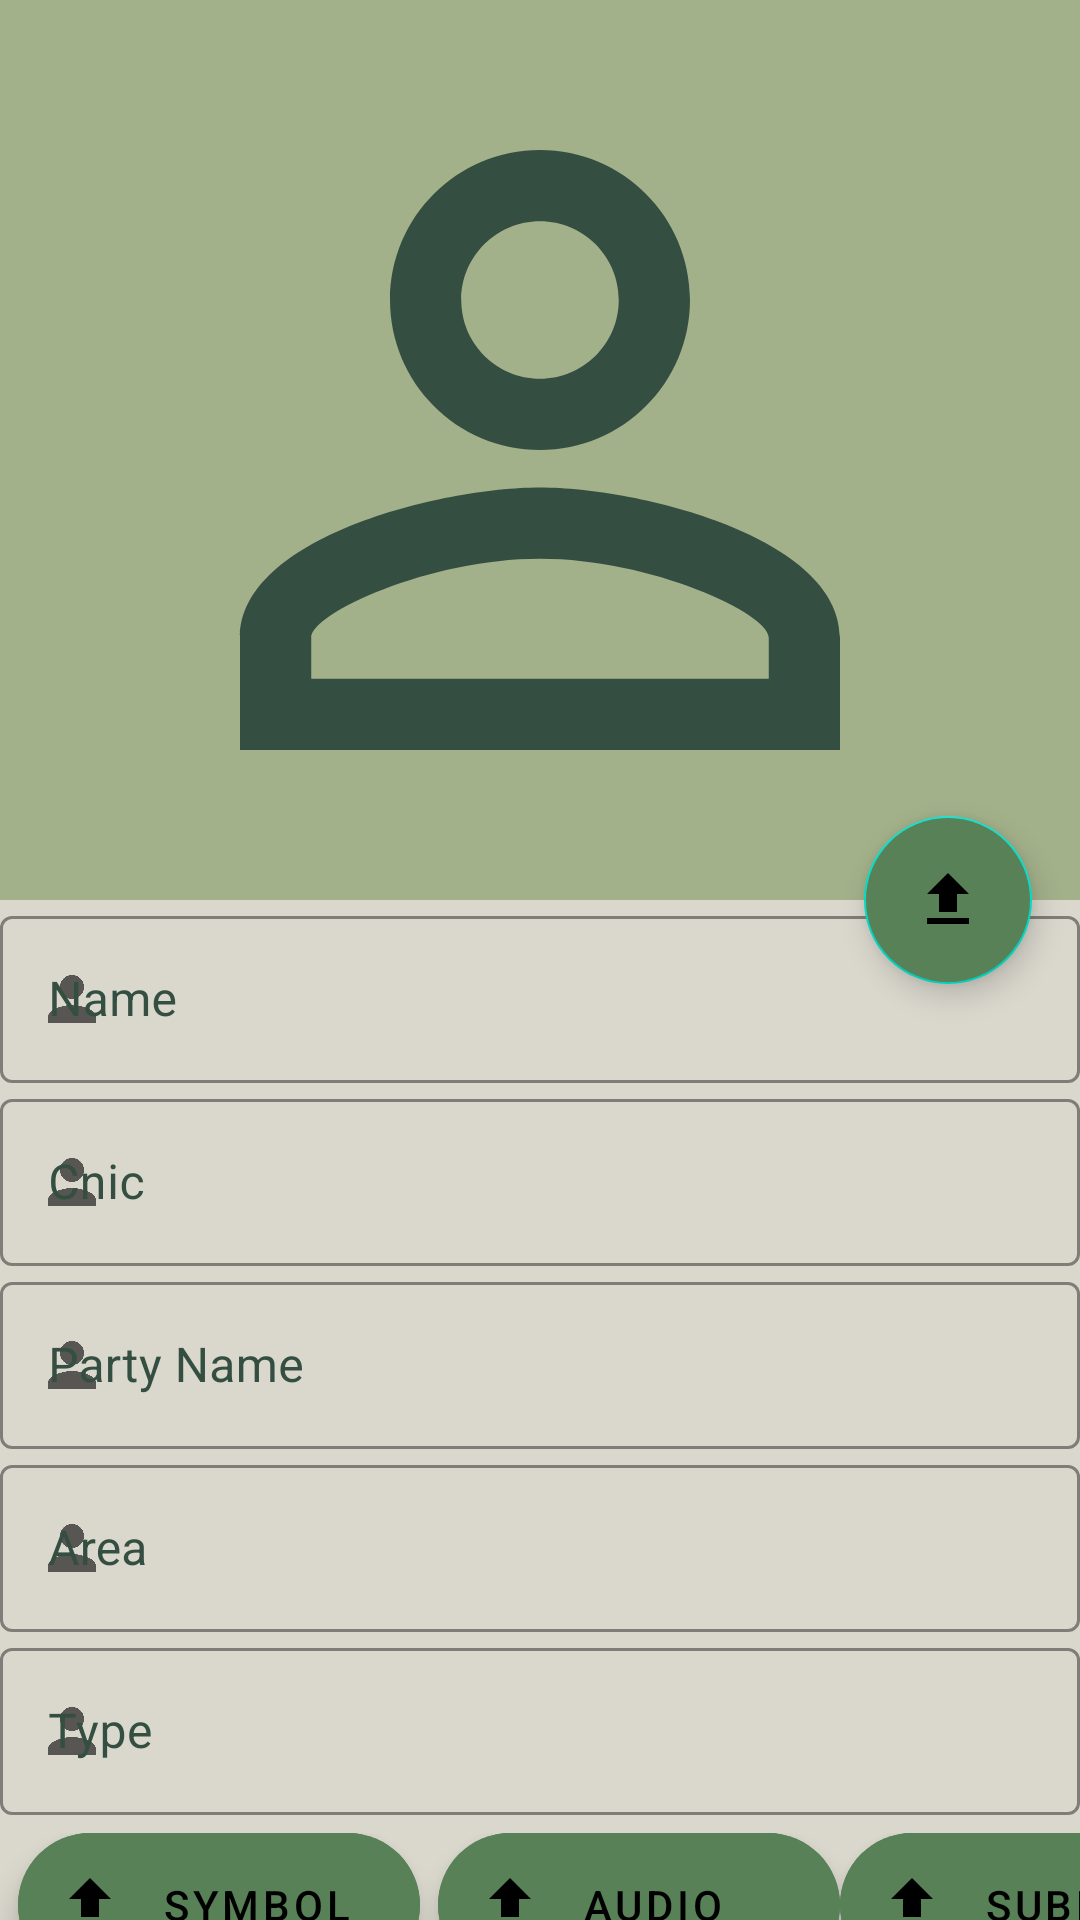

Icon click points for this 1080x1920 phone screenshot, format (x,y):
upload: (948,900)
